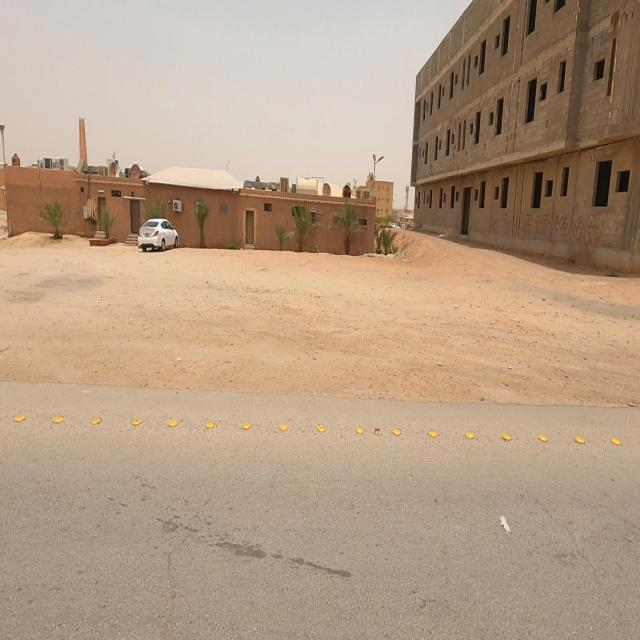debris: (480, 496, 526, 548), (426, 208, 464, 264), (444, 290, 464, 322)
